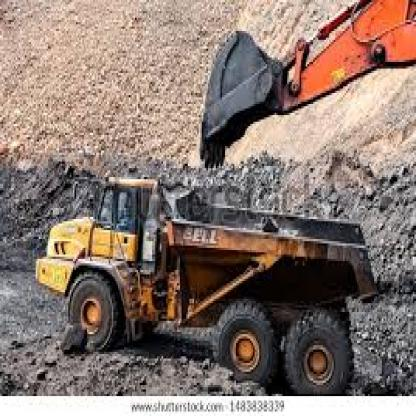dump_truck: (37, 164, 388, 400)
